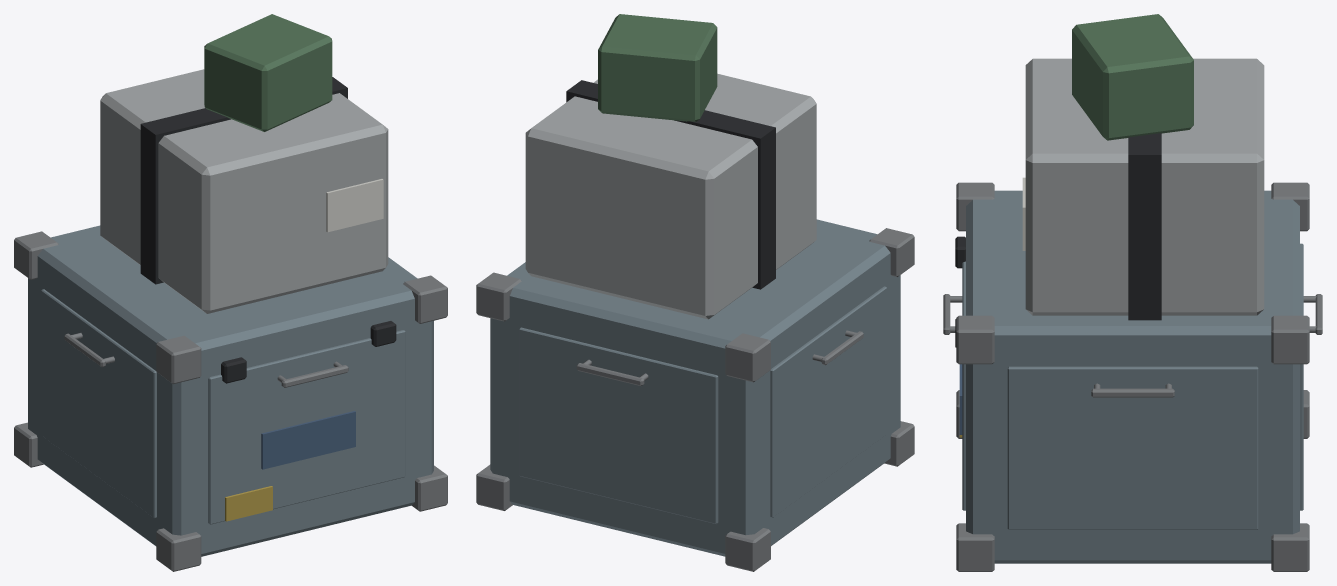
File: astro_crate_stack.fbx
3 renders of one model, left to right at view 1: azimuth 30°, elevation 25°; view 2: azimuth 150°, elevation 25°; view 3: azimuth 270°, elevation 25°, orthographic. The views are drawn at different scales.
Visible parts, largest first — view 1: CrateStack_Body; view 2: CrateStack_Body; view 3: CrateStack_Body.
Boxes of the visible parts, box(x1,y1,x2,y2) form: CrateStack_Body: box(14, 14, 447, 571); CrateStack_Body: box(476, 14, 914, 571); CrateStack_Body: box(943, 14, 1322, 571).
Bounding box in the file's own units: 159 × 221 × 159.
